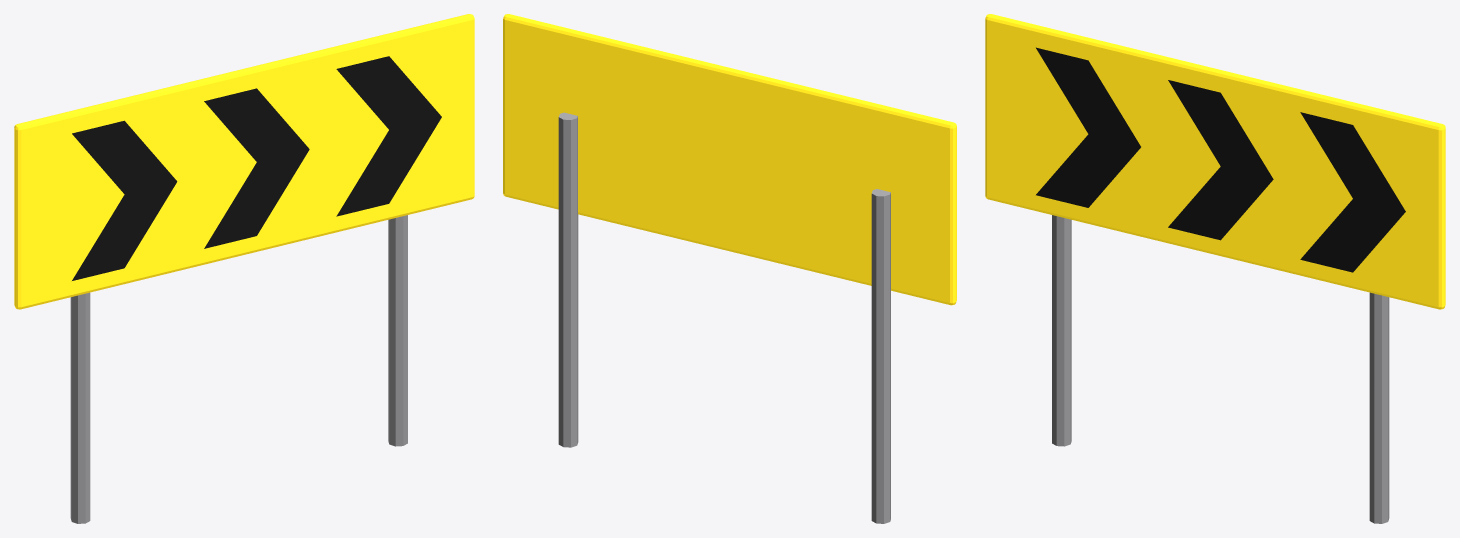
The model's file is chevR.glb.
3 renders of one model, left to right at view 1: azimuth 30°, elevation 25°; view 2: azimuth 150°, elevation 25°; view 3: azimuth 330°, elevation 25°, orthographic.
Parts seen in each view (by area): view 1: board, chev, posts; view 2: board, posts; view 3: board, chev, posts.
Boxes of the visible parts, box(x1,y1,x2,y2) form: board: box(14, 14, 474, 309); chev: box(72, 56, 441, 280); posts: box(70, 215, 407, 523); board: box(503, 14, 956, 305); posts: box(558, 112, 890, 523); board: box(985, 14, 1445, 309); chev: box(1036, 47, 1405, 272); posts: box(1052, 215, 1389, 523).
Bounding box in the file's own units: 2.6 × 2.25 × 0.135.
